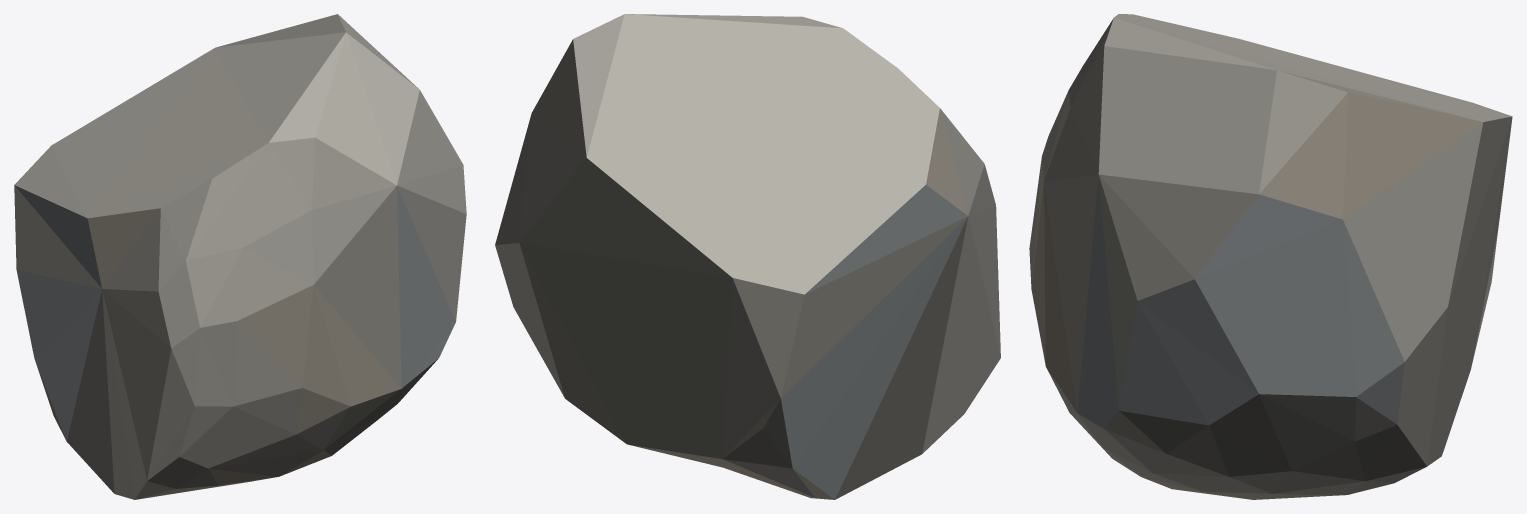
Rendered from rock-b.glb.
3 renders of one model, left to right at view 1: azimuth 30°, elevation 25°; view 2: azimuth 150°, elevation 25°; view 3: azimuth 270°, elevation 25°, orthographic. The views are drawn at different scales.
Parts seen in each view (by area): view 1: Rock_B_Boulder; view 2: Rock_B_Boulder; view 3: Rock_B_Boulder.
Part boxes in pixels (left/top/right/bottom): Rock_B_Boulder: left=14, top=14, right=466, bottom=499; Rock_B_Boulder: left=495, top=14, right=1000, bottom=499; Rock_B_Boulder: left=1029, top=14, right=1512, bottom=499.
Size of the model in its own units: 0.7484 by 0.7174 by 0.6723.
1 material, 1 textured.
